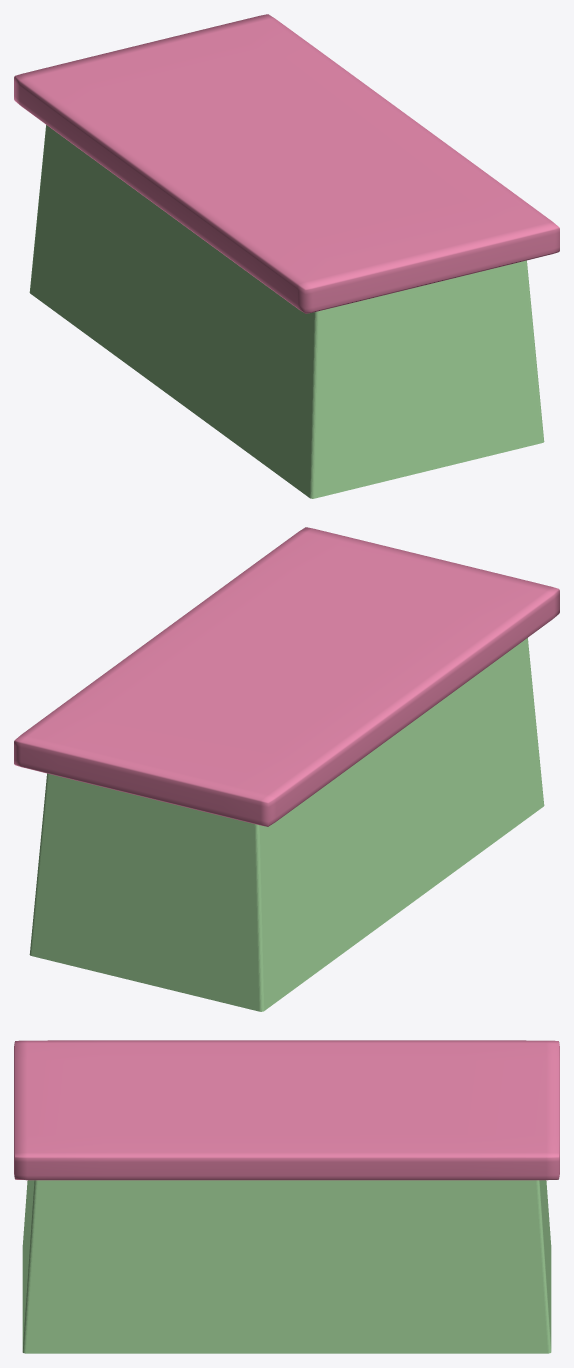
File: table-1.fbx
The picture shows the model from 3 angles, top to bottom: view 1: azimuth 30°, elevation 25°; view 2: azimuth 150°, elevation 25°; view 3: azimuth 270°, elevation 25°; orthographic projection. The views are drawn at different scales.
Visible parts, largest first — view 1: table; view 2: table; view 3: table.
Part boxes in pixels (x1,y1,x2,y2): table: [14, 14, 559, 498]; table: [14, 527, 559, 1011]; table: [14, 1040, 559, 1353].
Size of the model in its own units: 385 by 310 by 758.
